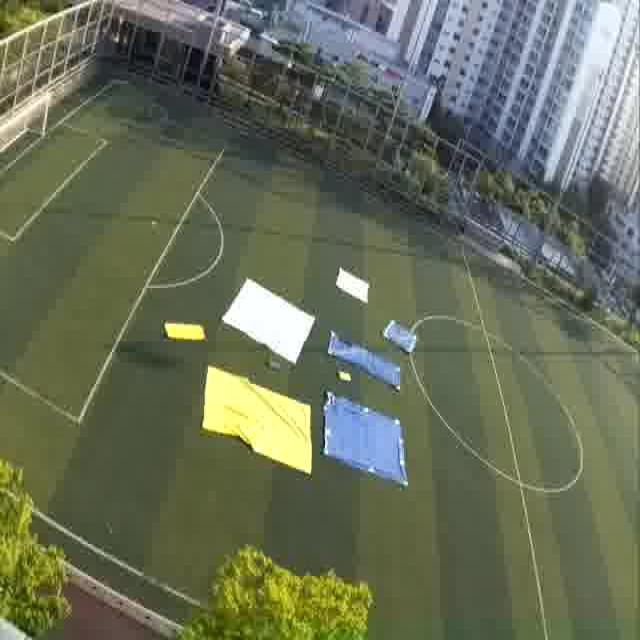danger: (326, 399, 408, 489), (319, 328, 379, 368), (382, 314, 419, 354)
safety: (226, 281, 310, 361), (332, 263, 371, 309)
warning: (201, 371, 310, 477), (162, 317, 207, 345)
